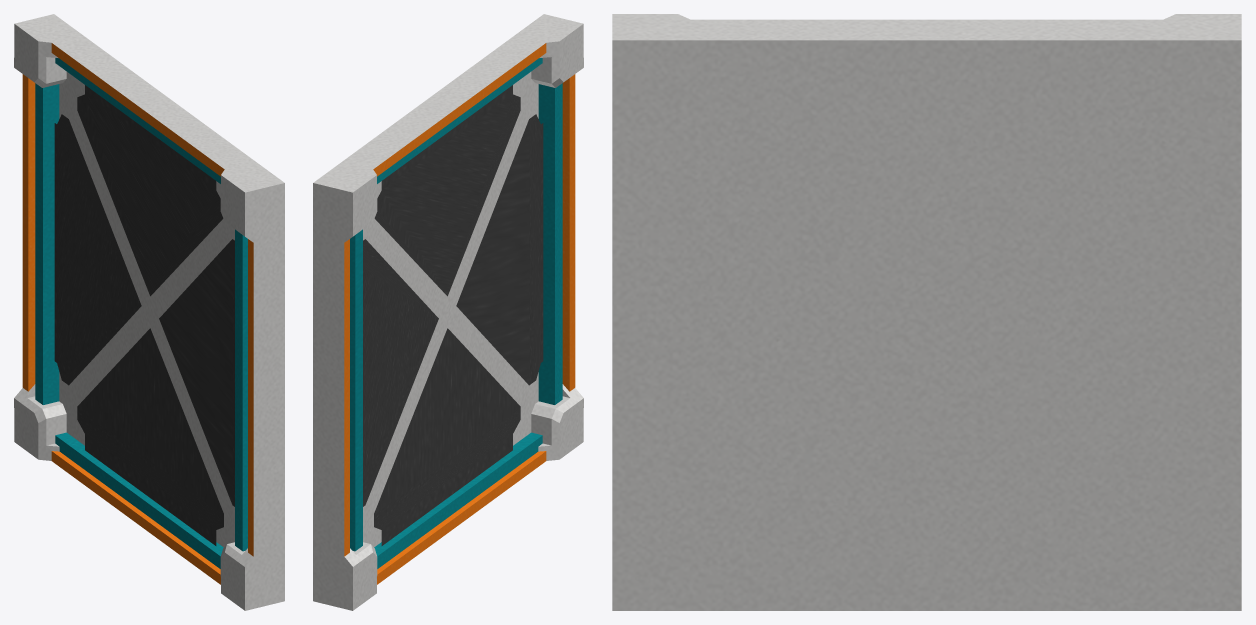
The model's file is Wall_1_LOD1.fbx.
3 renders of one model, left to right at view 1: azimuth 30°, elevation 25°; view 2: azimuth 150°, elevation 25°; view 3: azimuth 270°, elevation 25°, orthographic. The views are drawn at different scales.
Visible parts, largest first — view 1: Wall_1_LOD1; view 2: Wall_1_LOD1; view 3: Wall_1_LOD1.
Part boxes in pixels (<box>): Wall_1_LOD1: <box>14,14,284,610</box>; Wall_1_LOD1: <box>313,14,583,610</box>; Wall_1_LOD1: <box>612,14,1241,610</box>.
Bounding box in the file's own units: 20 × 200 × 200.
